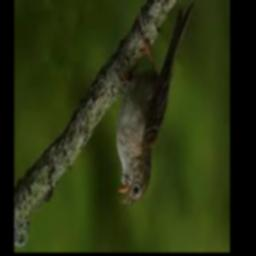Sparrow: (115, 3, 193, 208)
